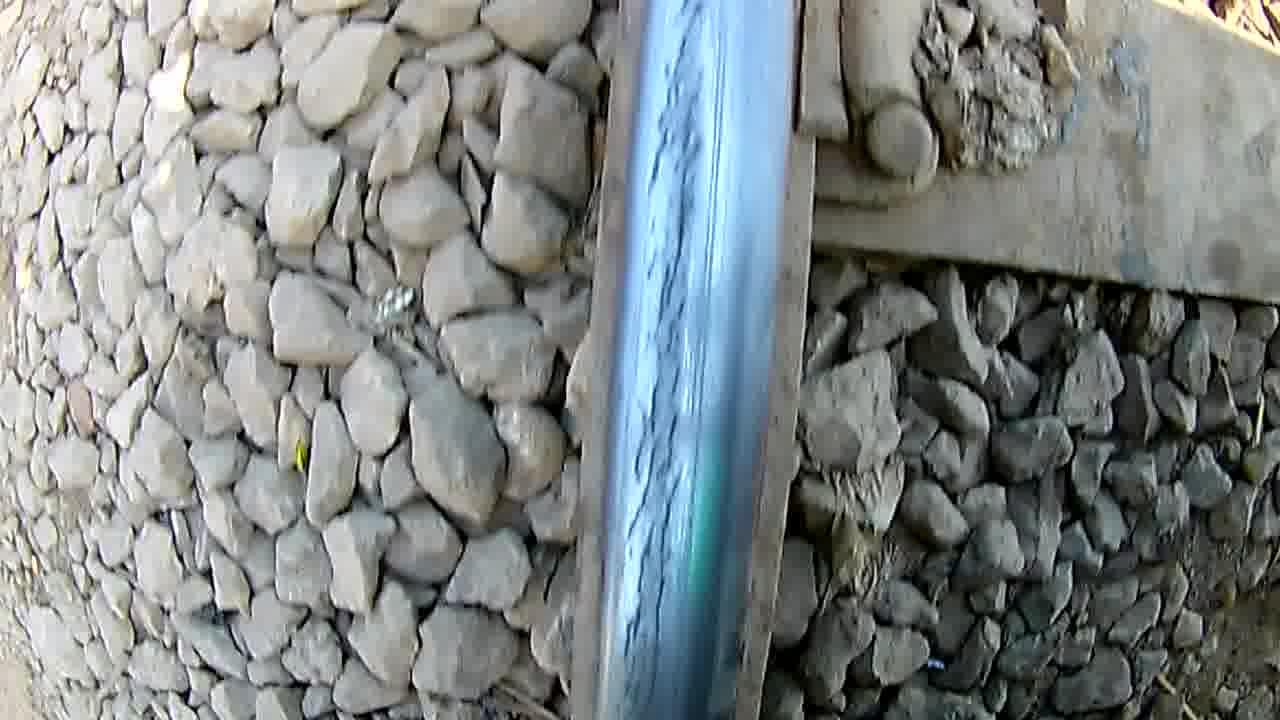normal_track: (619, 0, 714, 720)
